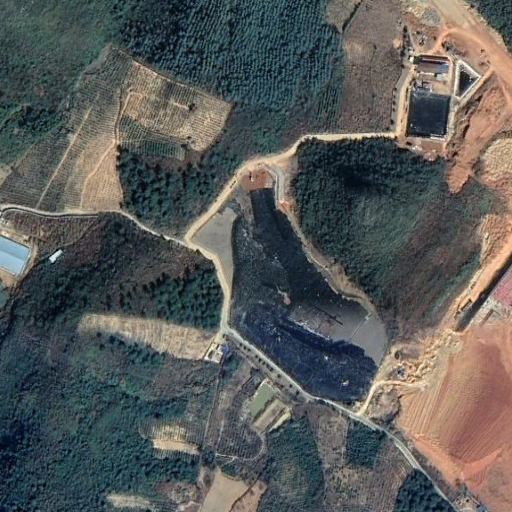lf: (232, 187, 376, 411)
